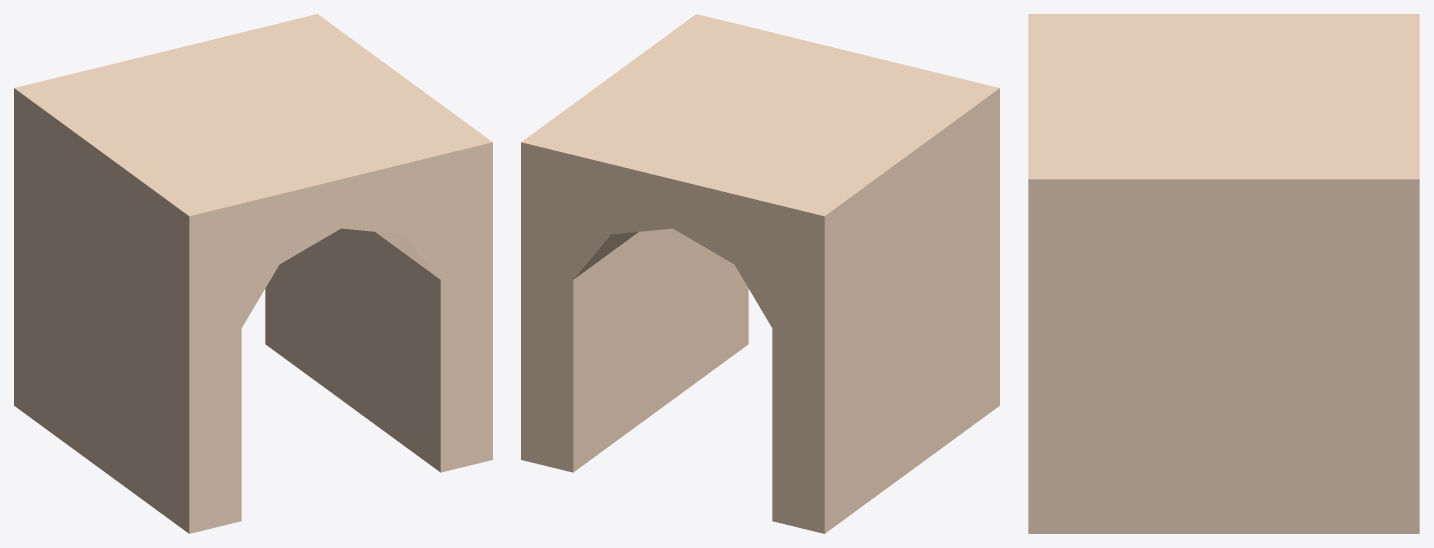
File: Abstract_Modular_Archway_Single_1.0_Beige_01.fbx
The picture shows the model from 3 angles, left to right: view 1: azimuth 30°, elevation 25°; view 2: azimuth 150°, elevation 25°; view 3: azimuth 270°, elevation 25°; orthographic projection. The views are drawn at different scales.
Parts seen in each view (by area): view 1: Abstract_Modular_Archway_Single_1.0_Beige_01; view 2: Abstract_Modular_Archway_Single_1.0_Beige_01; view 3: Abstract_Modular_Archway_Single_1.0_Beige_01.
Part boxes in pixels (x1,y1,x2,y2): Abstract_Modular_Archway_Single_1.0_Beige_01: (14, 14, 492, 533); Abstract_Modular_Archway_Single_1.0_Beige_01: (521, 14, 999, 533); Abstract_Modular_Archway_Single_1.0_Beige_01: (1028, 14, 1419, 533).
Bounding box in the file's own units: 118 × 118 × 118.
